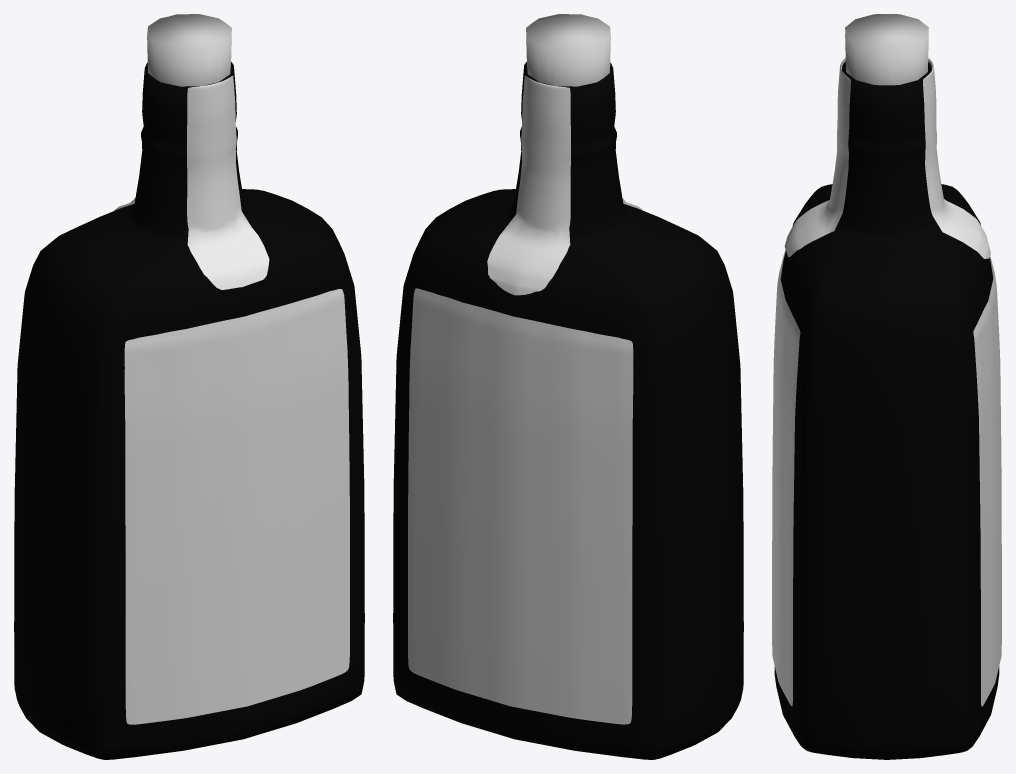
Rendered from BottleB_mdl.fbx.
3 renders of one model, left to right at view 1: azimuth 30°, elevation 25°; view 2: azimuth 150°, elevation 25°; view 3: azimuth 270°, elevation 25°, orthographic.
Parts seen in each view (by area): view 1: BottleB.001; view 2: BottleB.001; view 3: BottleB.001.
Boxes of the visible parts, x1,y1,x2,y2 form: BottleB.001: (14,14,364,759); BottleB.001: (393,14,743,759); BottleB.001: (772,14,1001,759).
Size of the model in its own units: 12.26 by 25.85 by 8.12.
